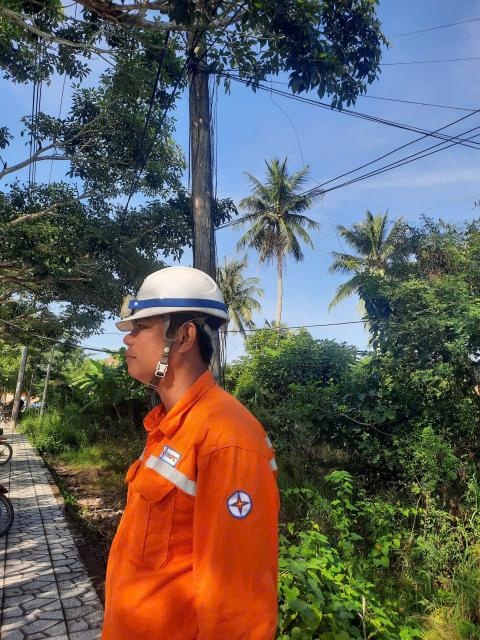helmet: (103, 254, 245, 341)
